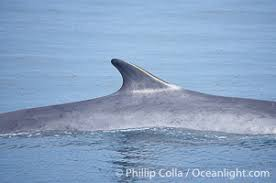fin: (1, 45, 276, 145)
